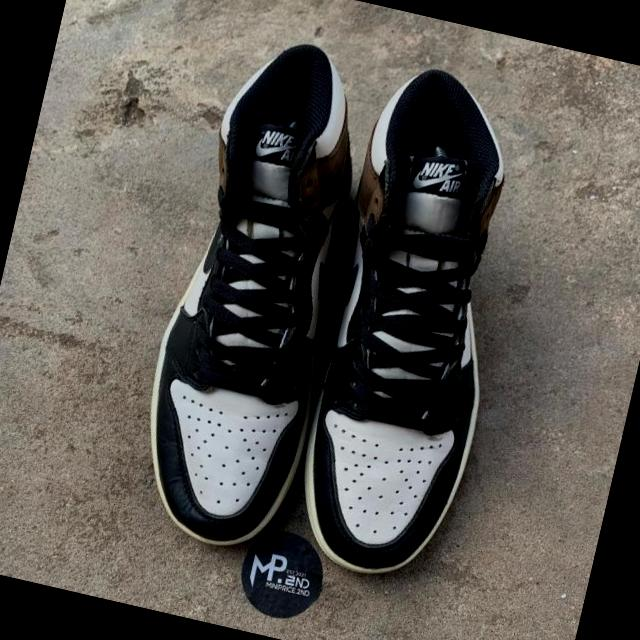nike_original_jordan: (266, 60, 552, 605), (118, 16, 391, 556)
